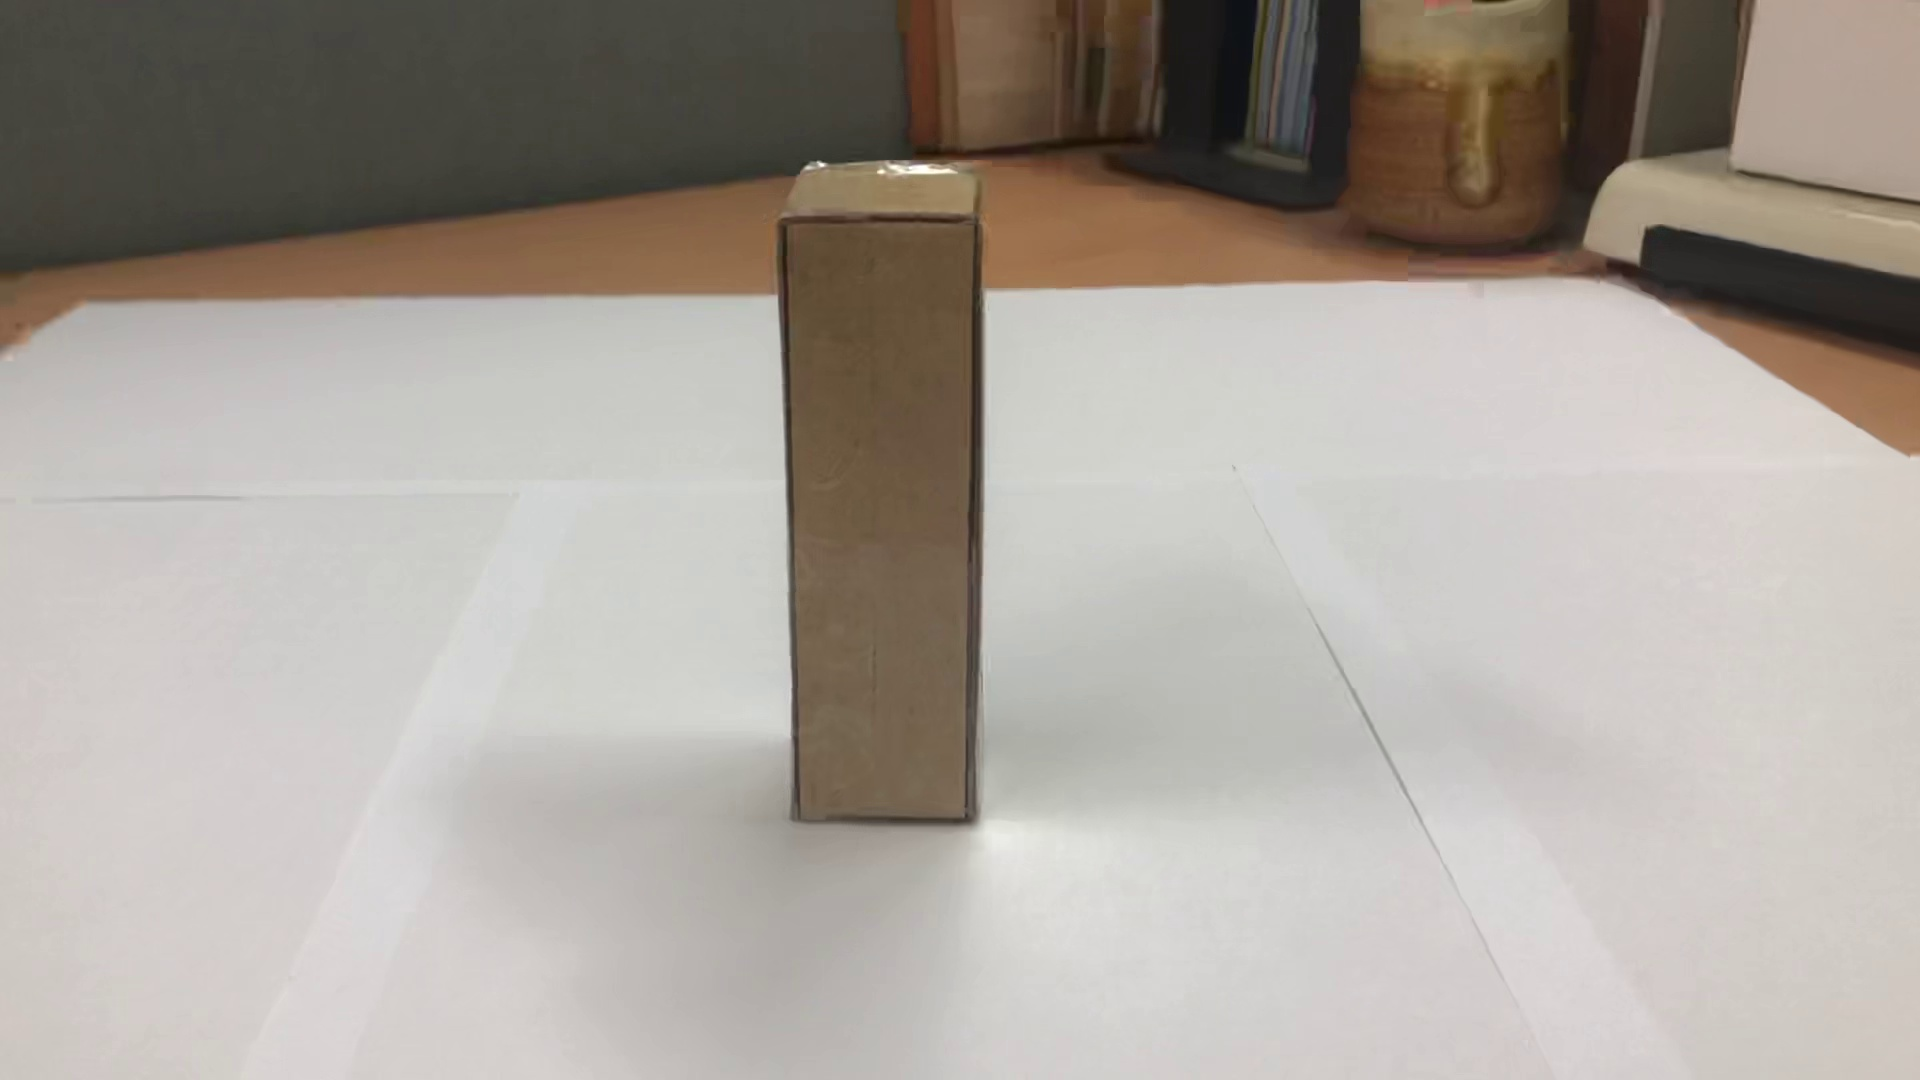box: (731, 160, 1068, 839)
